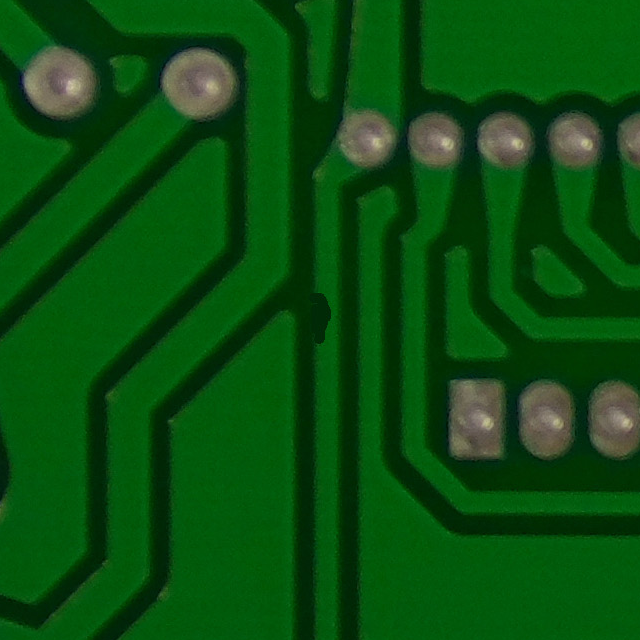mouse_bite: (295, 274, 346, 367)
